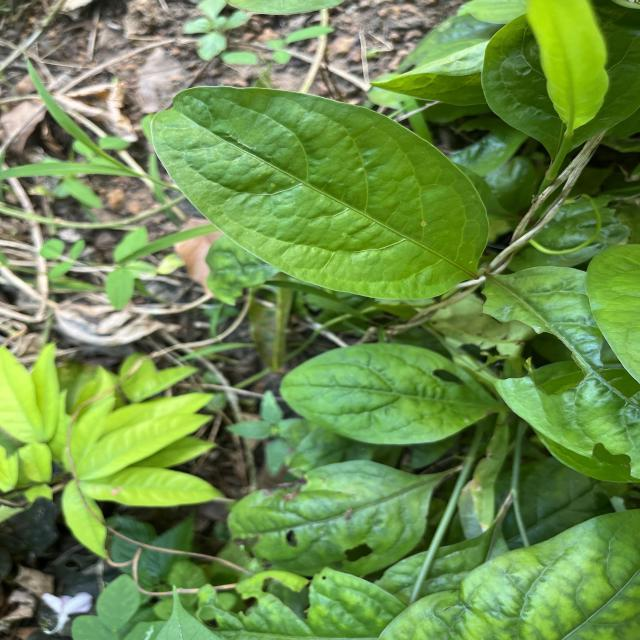Plumbago indica: (140, 80, 496, 310), (273, 338, 489, 449)
